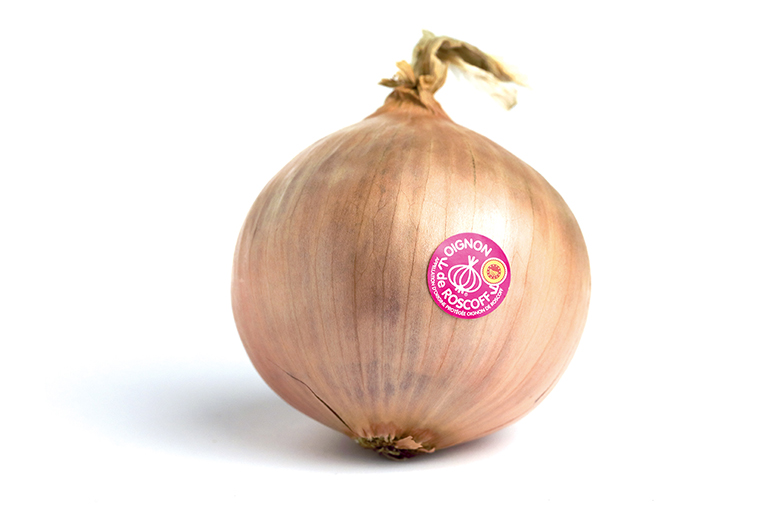onion: (173, 14, 613, 496)
